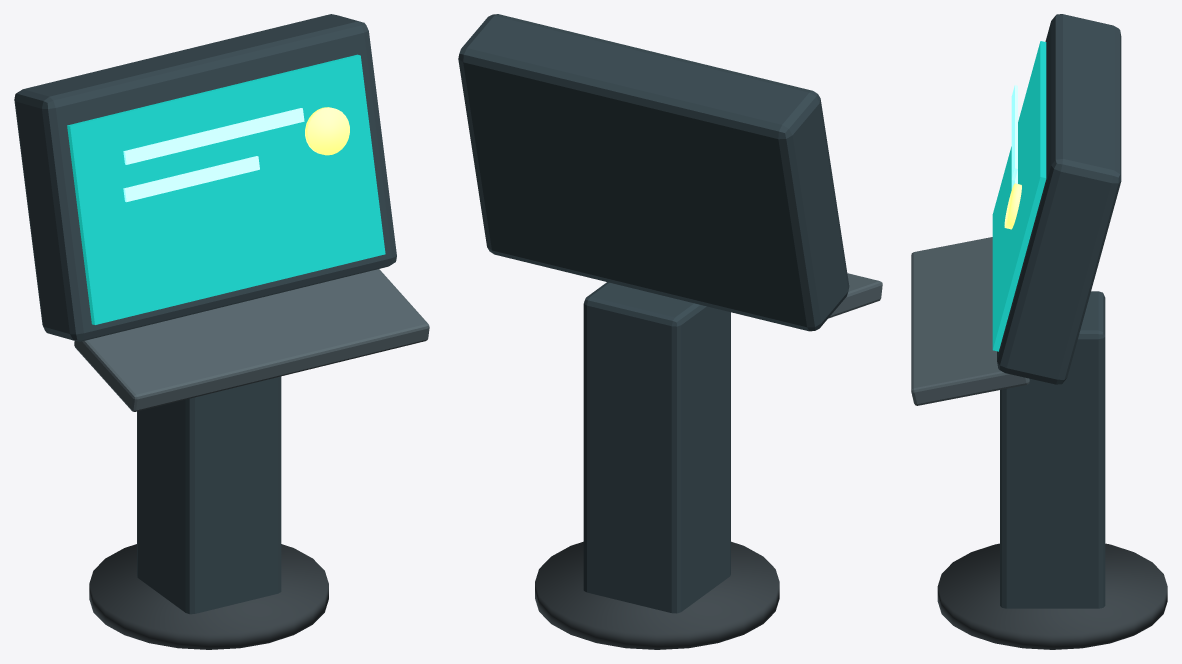
File: term.glb
The picture shows the model from 3 angles, left to right: view 1: azimuth 30°, elevation 25°; view 2: azimuth 150°, elevation 25°; view 3: azimuth 270°, elevation 25°; orthographic projection. The views are drawn at different scales.
Visible parts, largest first — view 1: screen, head, column, keyboard, foot.001, uiline, uiline.001, coin; view 2: head, column, foot.001, keyboard; view 3: head, column, foot.001, keyboard, screen, uiline, coin.
Boxes of the visible parts, x1,y1,x2,y2 form: screen: [67, 54, 385, 324]; head: [14, 14, 396, 341]; column: [137, 376, 281, 614]; keyboard: [74, 269, 429, 411]; foot.001: [89, 544, 328, 649]; uiline: [123, 108, 304, 164]; uiline.001: [123, 156, 259, 202]; coin: [305, 107, 349, 155]; head: [458, 14, 849, 331]; column: [583, 282, 730, 613]; foot.001: [535, 541, 779, 649]; keyboard: [828, 273, 882, 318]; head: [997, 14, 1121, 384]; column: [1000, 291, 1105, 608]; foot.001: [937, 543, 1167, 649]; keyboard: [911, 237, 1029, 405]; screen: [992, 41, 1046, 351]; uiline: [1011, 85, 1017, 180]; coin: [1004, 183, 1021, 229].
Bounding box in the file's own units: 1.1 × 1.73 × 0.7802.
